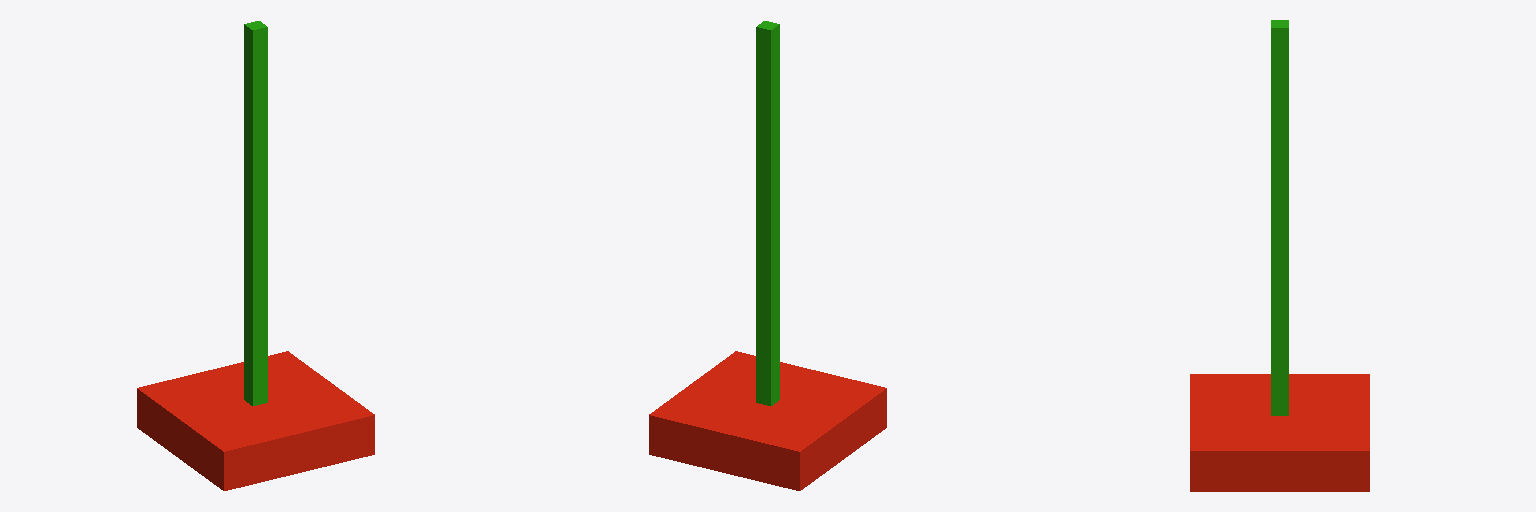
URDF robot description (cartpolev0):
<?xml version="1.0"?>
<robot name="cartpolev0">
  <link name="cart">
    <contact>
      <lateral_friction value="1.0"/>
      <rolling_friction value="0.0"/>
      <inertia_scaling value="3.0"/>
      <contact_cfm value="0.0"/>
      <contact_erp value="1.0"/>
    </contact>
    <inertial>
      <origin rpy="0 0 0" xyz="0 0 0"/>
      <mass value="1"/>
      <inertia ixx="1" ixy="0" ixz="0" iyy="1" iyz="0" izz="1"/>
    </inertial>
    <visual>
      <origin rpy="0 0 0" xyz="0.0 0.0 0.0"/>
      <geometry>
        <box size="0.2 0.2 0.05"/>
      </geometry>
      <material name="blockmat">
        <color rgba="0.9 0.2 0.1 1"/>
      </material>
    </visual>
    <collision>
      <origin rpy="0 0 0" xyz="0.0 0.0 0.0"/>
      <geometry>
        <box size="0.2 0.2 0.05"/>
      </geometry>
    </collision>
  </link>

  <joint name="cart_pole_joint" type="continuous">
    <parent link="cart"/>
    <child link="pole"/>
    <origin rpy="0 0 0" xyz="0 0 0.0"/>
    <axis xyz="0 1 0"/>
    <limit effort="100" velocity="100"/>
	<joint_properties damping="0.0" friction="0.0"/>
  </joint>

  <link name="pole">
    <contact>
      <lateral_friction value="1.0"/>
      <rolling_friction value="0.0"/>
      <inertia_scaling value="3.0"/>
      <contact_cfm value="0.0"/>
      <contact_erp value="1.0"/>
    </contact>
    <inertial>
      <origin rpy="0 0 0" xyz="0 0 0.25"/>
      <mass value="5"/>
      <inertia ixx="1" ixy="0" ixz="0" iyy="1" iyz="0" izz="1"/>
    </inertial>
    <visual>
      <origin rpy="0 0 0" xyz="0.0 0.0 0.25"/>
      <geometry>
        <box size="0.02 0.02 0.5"/>
      </geometry>
      <material name="blockmat">
        <color rgba="0.2 0.7 0.1 1"/>
      </material>
    </visual>
    <collision>
      <origin rpy="0 0 0" xyz="0.0 0.0 0.25"/>
      <geometry>
        <box size="0.02 0.02 0.5"/>
      </geometry>
    </collision>
  </link>
 </robot>

--- Render facts (derived) ---
3 views of the same robot in one strip: view 1: azimuth 30°, elevation 25°; view 2: azimuth 150°, elevation 25°; view 3: azimuth 270°, elevation 25° (orthographic).
Model cartpolev0 with 2 links and 1 joints (1 continuous), rooted at cart, posed every joint at zero.
Visible links, largest first — view 1: cart, pole; view 2: cart, pole; view 3: cart, pole.
Boxes of the visible links, <box> form: cart: <box>137,351,374,490</box>; pole: <box>244,21,267,405</box>; cart: <box>649,351,886,490</box>; pole: <box>756,21,779,405</box>; cart: <box>1190,374,1369,491</box>; pole: <box>1271,20,1288,415</box>.
Bounding box of the posed robot: 0.2 × 0.2 × 0.525 m (x, y, z).
Geometry: primitives only (box / cylinder / sphere), no mesh files.